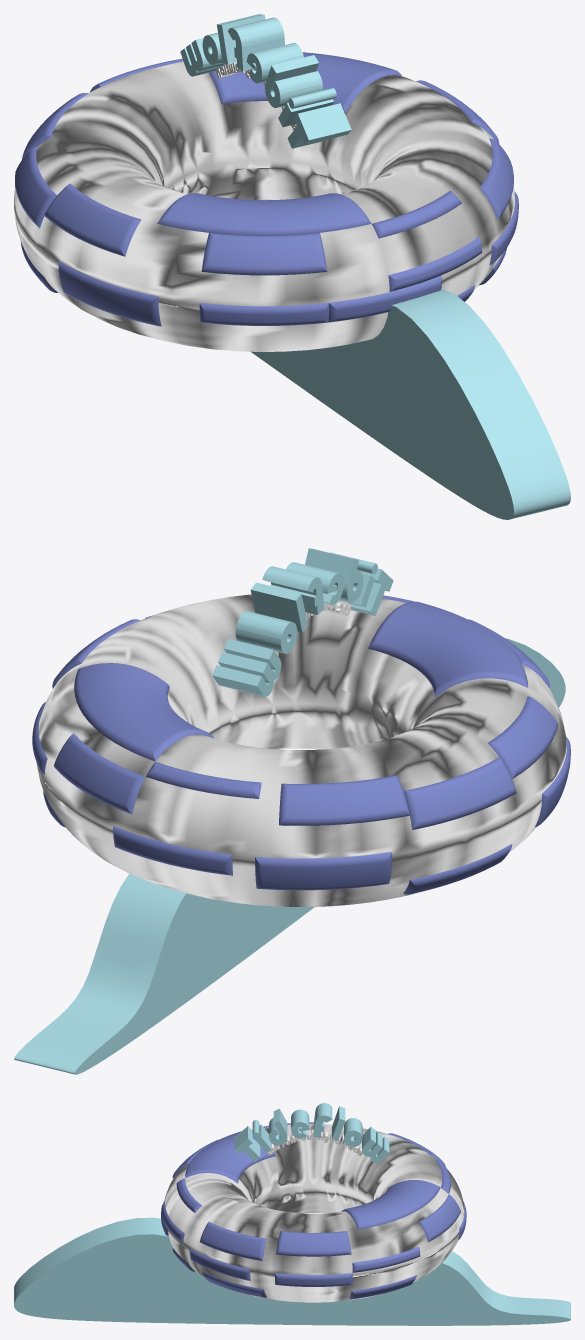
The model's file is tideflow.glb.
3 views of the same model, one above another, from view 1: azimuth 30°, elevation 25°; view 2: azimuth 150°, elevation 25°; view 3: azimuth 270°, elevation 25° (orthographic). The views are drawn at different scales.
Visible parts, largest first — view 1: Body1, Body82, Body18, Body25, Body19, Body6, Body27, Body26, Body33, Body5, Body34, Body24 (+10 smaller); view 2: Body1, Body82, Body18, Body19, Body20, Body3, Body24, Body2, Body6, Body36, Body21, Body15 (+9 smaller); view 3: Body1, Body82, Body19, Body18, Body8, Body10, Body2, Body9, Body12, Body17, Body36, Body34 (+9 smaller).
Part boxes in pixels (x1,y1,x2,y2): Body1: [14, 61, 514, 351]; Body82: [251, 288, 570, 519]; Body18: [157, 193, 371, 235]; Body25: [201, 233, 327, 275]; Body19: [209, 52, 401, 113]; Body6: [44, 183, 141, 256]; Body27: [58, 261, 161, 326]; Body26: [199, 303, 329, 325]; Body33: [265, 55, 322, 107]; Body5: [328, 275, 441, 322]; Body34: [287, 103, 351, 148]; Body24: [15, 146, 56, 228]; Body1: [36, 594, 566, 906]; Body82: [14, 638, 565, 1074]; Body18: [368, 601, 528, 696]; Body19: [74, 663, 214, 761]; Body20: [279, 775, 409, 825]; Body3: [255, 852, 391, 890]; Body24: [403, 757, 516, 829]; Body2: [54, 733, 145, 814]; Body6: [487, 696, 558, 778]; Body36: [212, 638, 281, 696]; Body21: [113, 826, 232, 875]; Body15: [146, 761, 261, 798]; Body1: [164, 1124, 464, 1302]; Body82: [14, 1217, 570, 1325]; Body19: [341, 1180, 440, 1229]; Body18: [185, 1131, 275, 1183]; Body8: [276, 1231, 351, 1256]; Body10: [200, 1222, 266, 1260]; Body2: [419, 1194, 460, 1241]; Body9: [274, 1273, 352, 1286]; Body12: [190, 1248, 250, 1280]; Body17: [352, 1246, 420, 1272]; Body36: [362, 1126, 389, 1162]; Body34: [234, 1126, 260, 1161].
Bounding box in the file's own units: 11.76 × 8.5 × 21.49.
